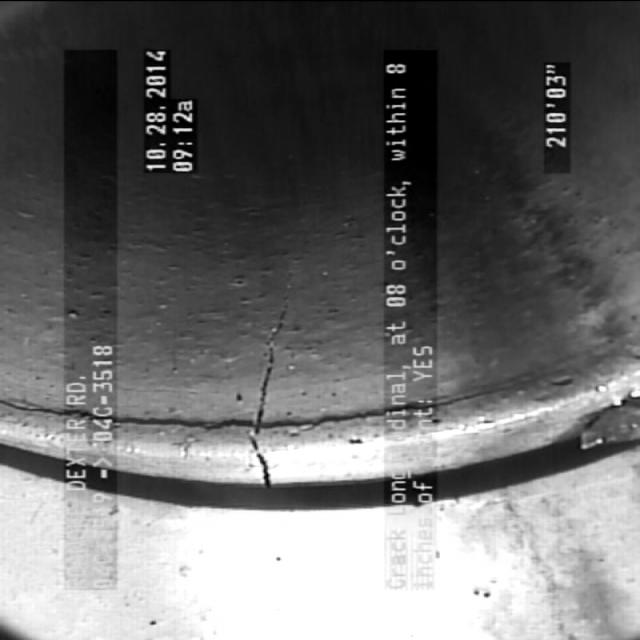Crack: (201, 304, 334, 472)
